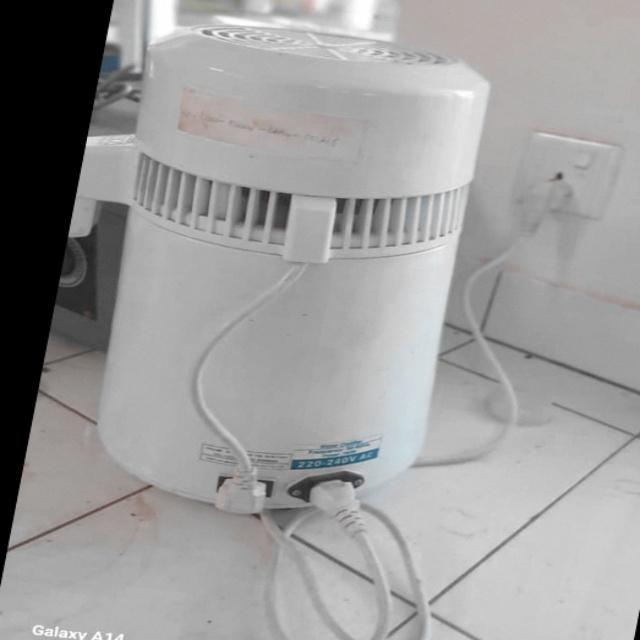Distilled Water Maker: (51, 9, 526, 542)
